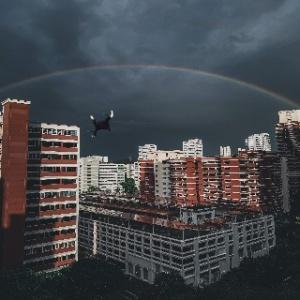drone: (84, 106, 120, 142)
